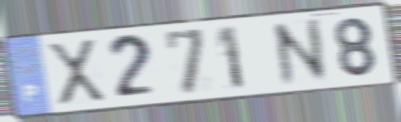1: (215, 23, 247, 94)
2: (105, 32, 165, 105)
7: (161, 28, 209, 99)
8: (333, 16, 380, 79)
N: (268, 15, 332, 90)
X: (44, 37, 109, 109)
